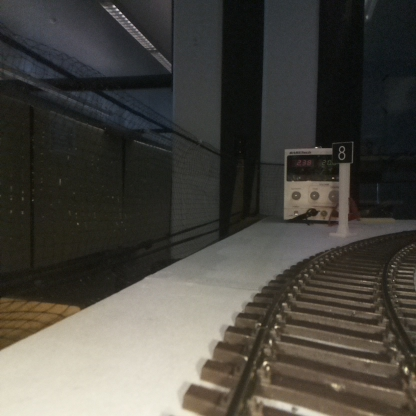black-info-8: (332, 141, 352, 235)
